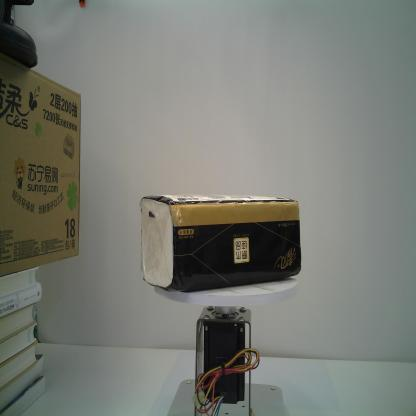Tissue: (138, 192, 303, 294)
